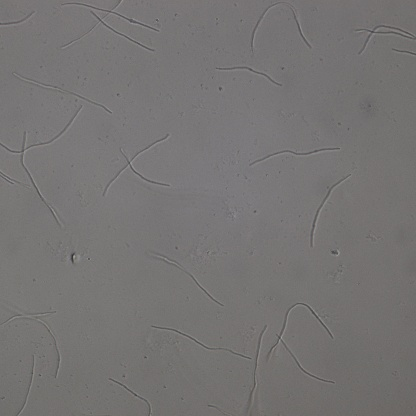Sensitive: (269, 301, 338, 384), (59, 1, 159, 57), (145, 249, 223, 305), (103, 131, 171, 195), (1, 108, 82, 156), (19, 132, 61, 224), (250, 1, 312, 57), (151, 326, 250, 359), (308, 172, 351, 247), (354, 21, 416, 55), (247, 143, 341, 165), (215, 64, 283, 92), (246, 325, 266, 414), (110, 378, 151, 416), (14, 356, 35, 416)
